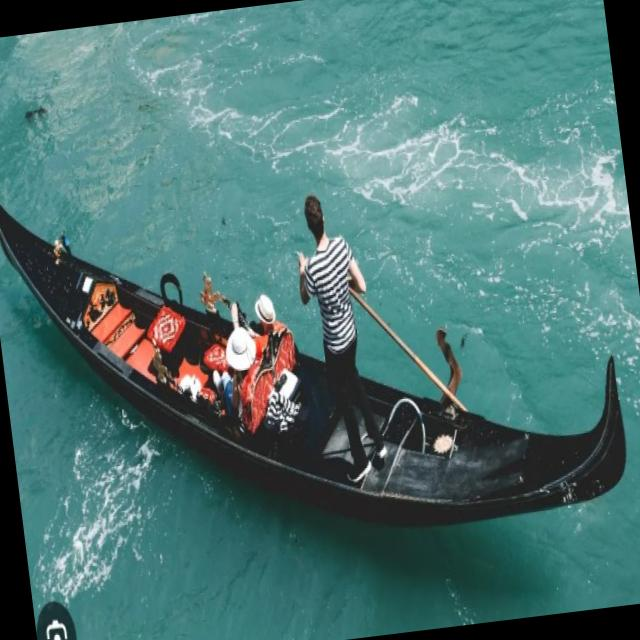boat: (0, 38, 640, 617)
